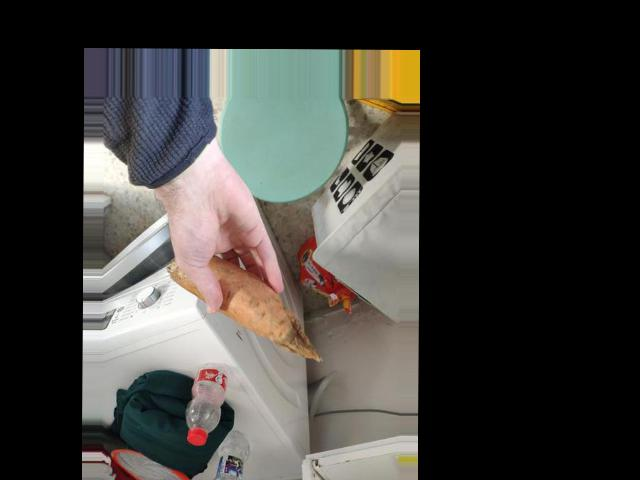sweet_potato: (195, 259, 281, 342)
